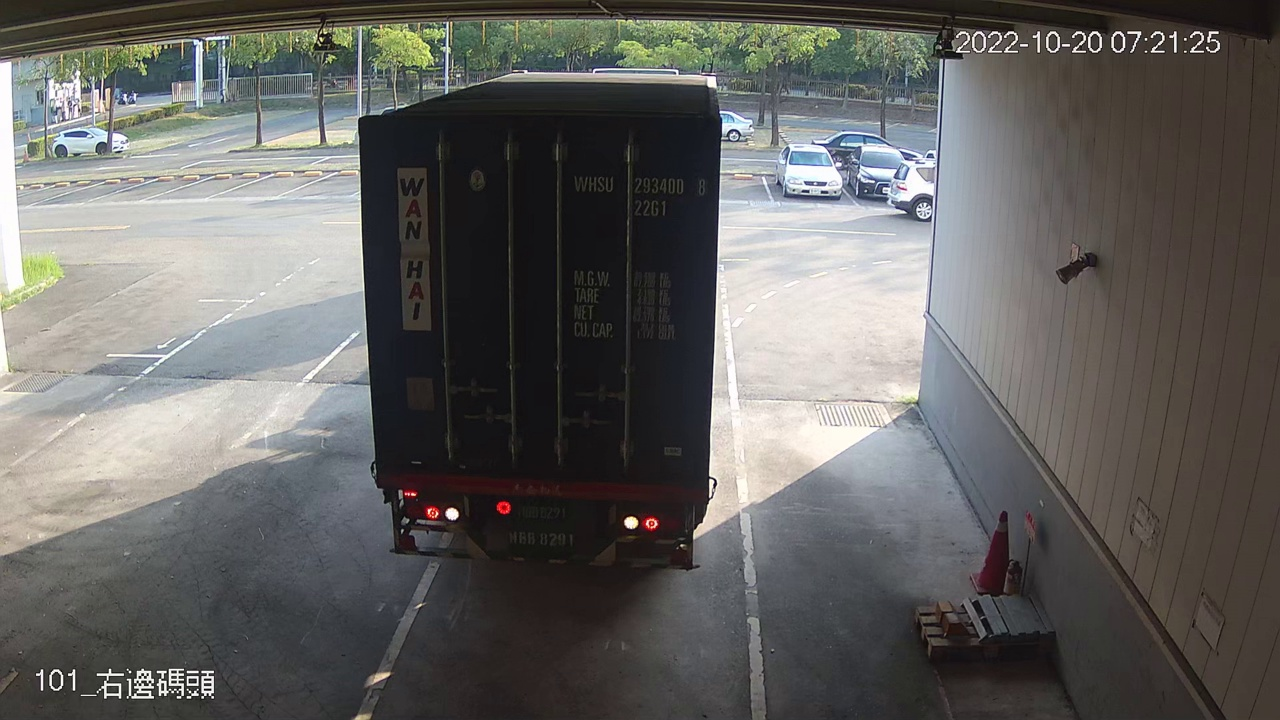container: (567, 167, 714, 221)
